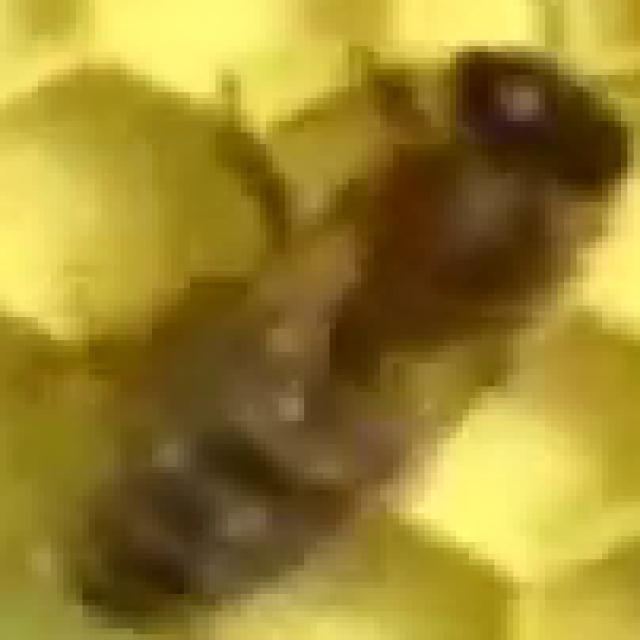honeybee: (75, 63, 628, 619)
